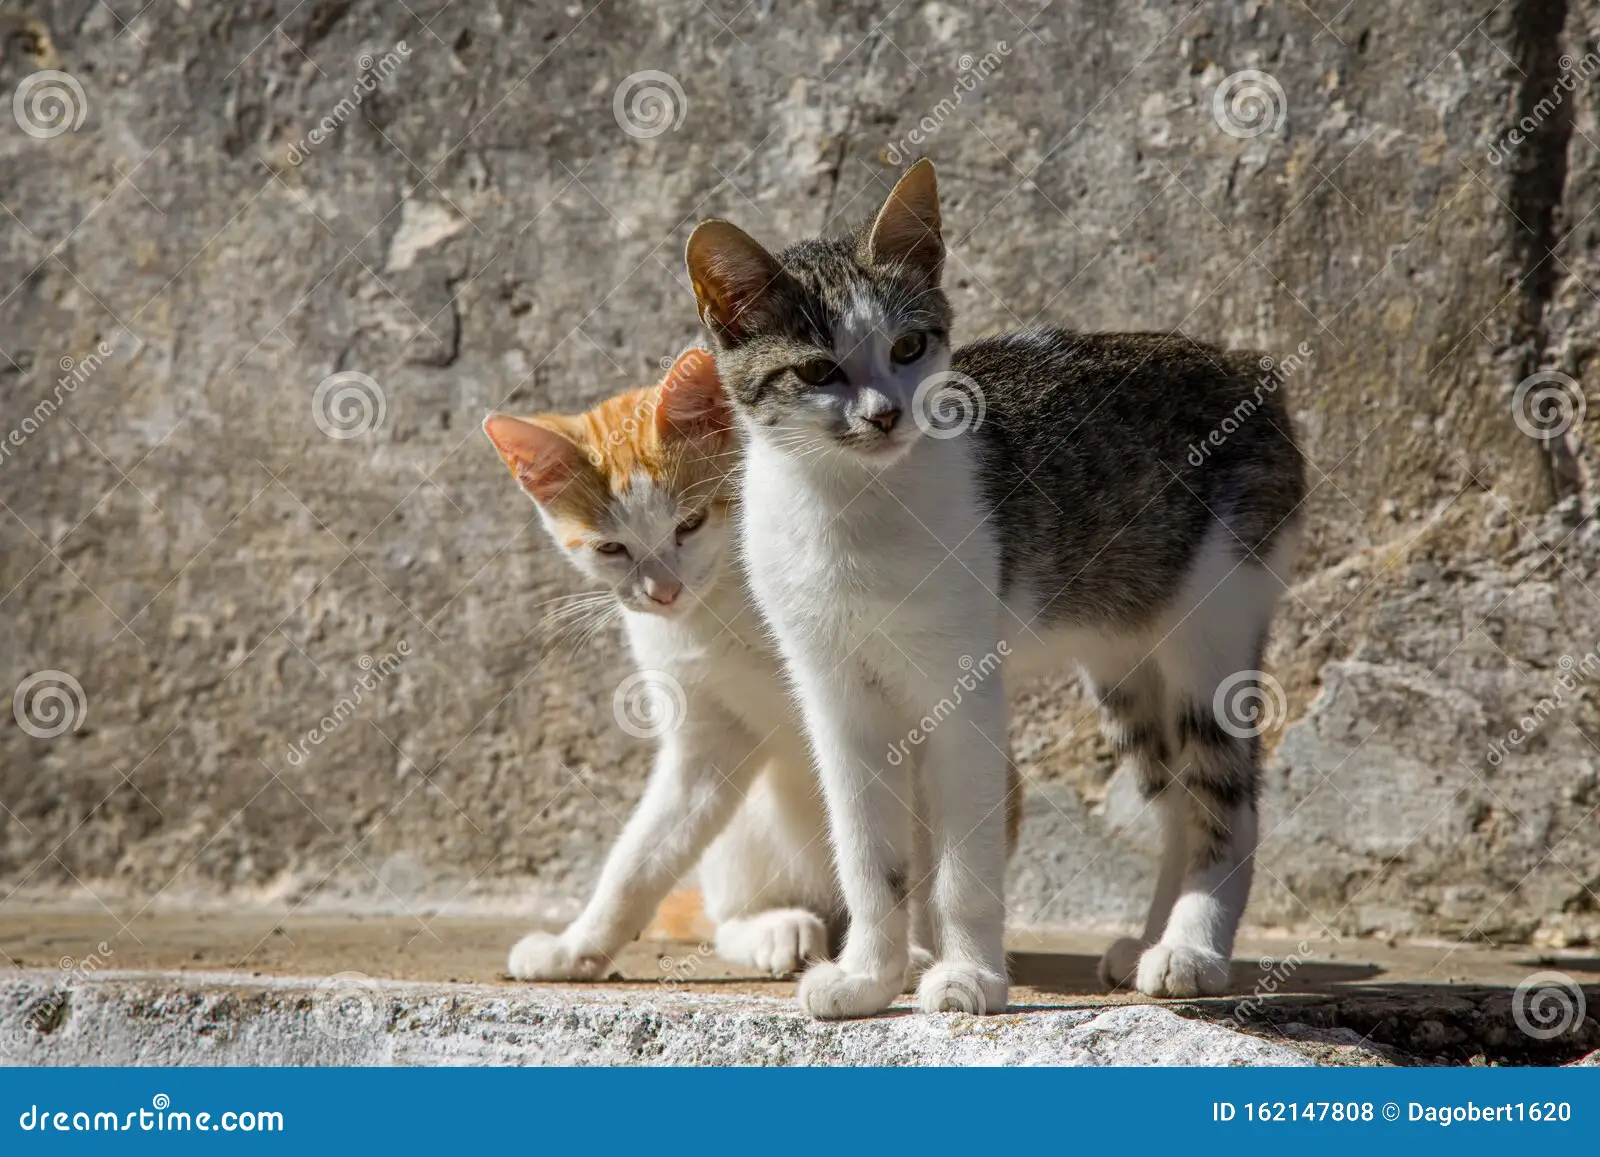cat: (675, 170, 1369, 1030), (480, 345, 909, 990)
